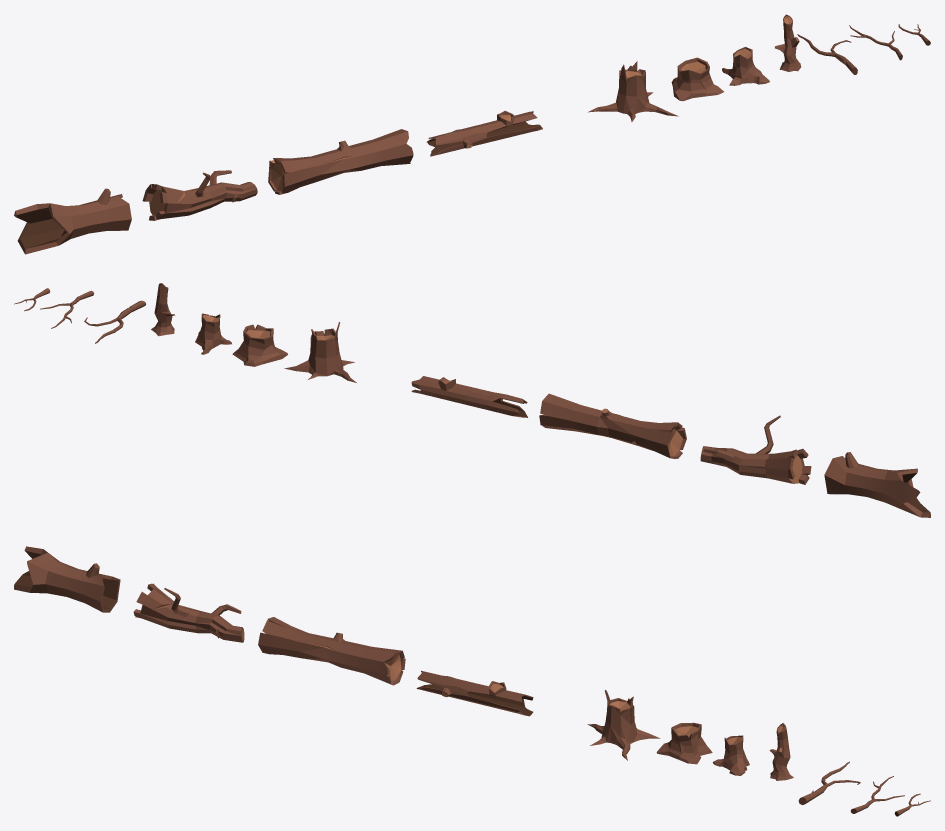
The model's file is Branchs.fbx.
The picture shows the model from 3 angles, top to bottom: view 1: azimuth 30°, elevation 25°; view 2: azimuth 150°, elevation 25°; view 3: azimuth 330°, elevation 25°; orthographic projection.
Visible parts, largest first — view 1: Branch _Type 3_03, Branch _Type 3_04, Branch _Type 3_02, Branch _Type 3_01, Branch _Type 2_04, Branch _Type 2_03, Branch _Type 2_02, Branch _Type 2_01; view 2: Branch _Type 3_03, Branch _Type 3_04, Branch _Type 3_02, Branch _Type 3_01, Branch _Type 2_04, Branch _Type 2_03, Branch _Type 2_02, Branch _Type 2_01; view 3: Branch _Type 3_03, Branch _Type 3_04, Branch _Type 3_02, Branch _Type 3_01, Branch _Type 2_04, Branch _Type 2_03, Branch _Type 2_02, Branch _Type 2_01.
Boxes of the visible parts, x1,y1,x2,y2 form: Branch _Type 3_03: (268, 129, 413, 194); Branch _Type 3_04: (14, 188, 131, 254); Branch _Type 3_02: (142, 170, 257, 220); Branch _Type 3_01: (427, 110, 542, 156); Branch _Type 2_04: (588, 61, 678, 121); Branch _Type 2_03: (671, 57, 723, 101); Branch _Type 2_02: (722, 47, 769, 85); Branch _Type 2_01: (774, 14, 801, 71); Branch _Type 3_03: (539, 393, 686, 458); Branch _Type 3_04: (824, 452, 930, 517); Branch _Type 3_02: (700, 415, 811, 484); Branch _Type 3_01: (411, 376, 527, 417); Branch _Type 2_04: (284, 322, 356, 382); Branch _Type 2_03: (232, 324, 287, 366); Branch _Type 2_02: (195, 313, 231, 354); Branch _Type 2_01: (151, 283, 174, 336); Branch _Type 3_03: (258, 617, 405, 685); Branch _Type 3_04: (14, 546, 120, 612); Branch _Type 3_02: (133, 583, 244, 642); Branch _Type 3_01: (416, 670, 533, 716); Branch _Type 2_04: (587, 690, 660, 760); Branch _Type 2_03: (656, 722, 712, 764); Branch _Type 2_02: (713, 735, 749, 775); Branch _Type 2_01: (769, 723, 793, 780).
Bounding box in the file's own units: 2676 × 153 × 272.
